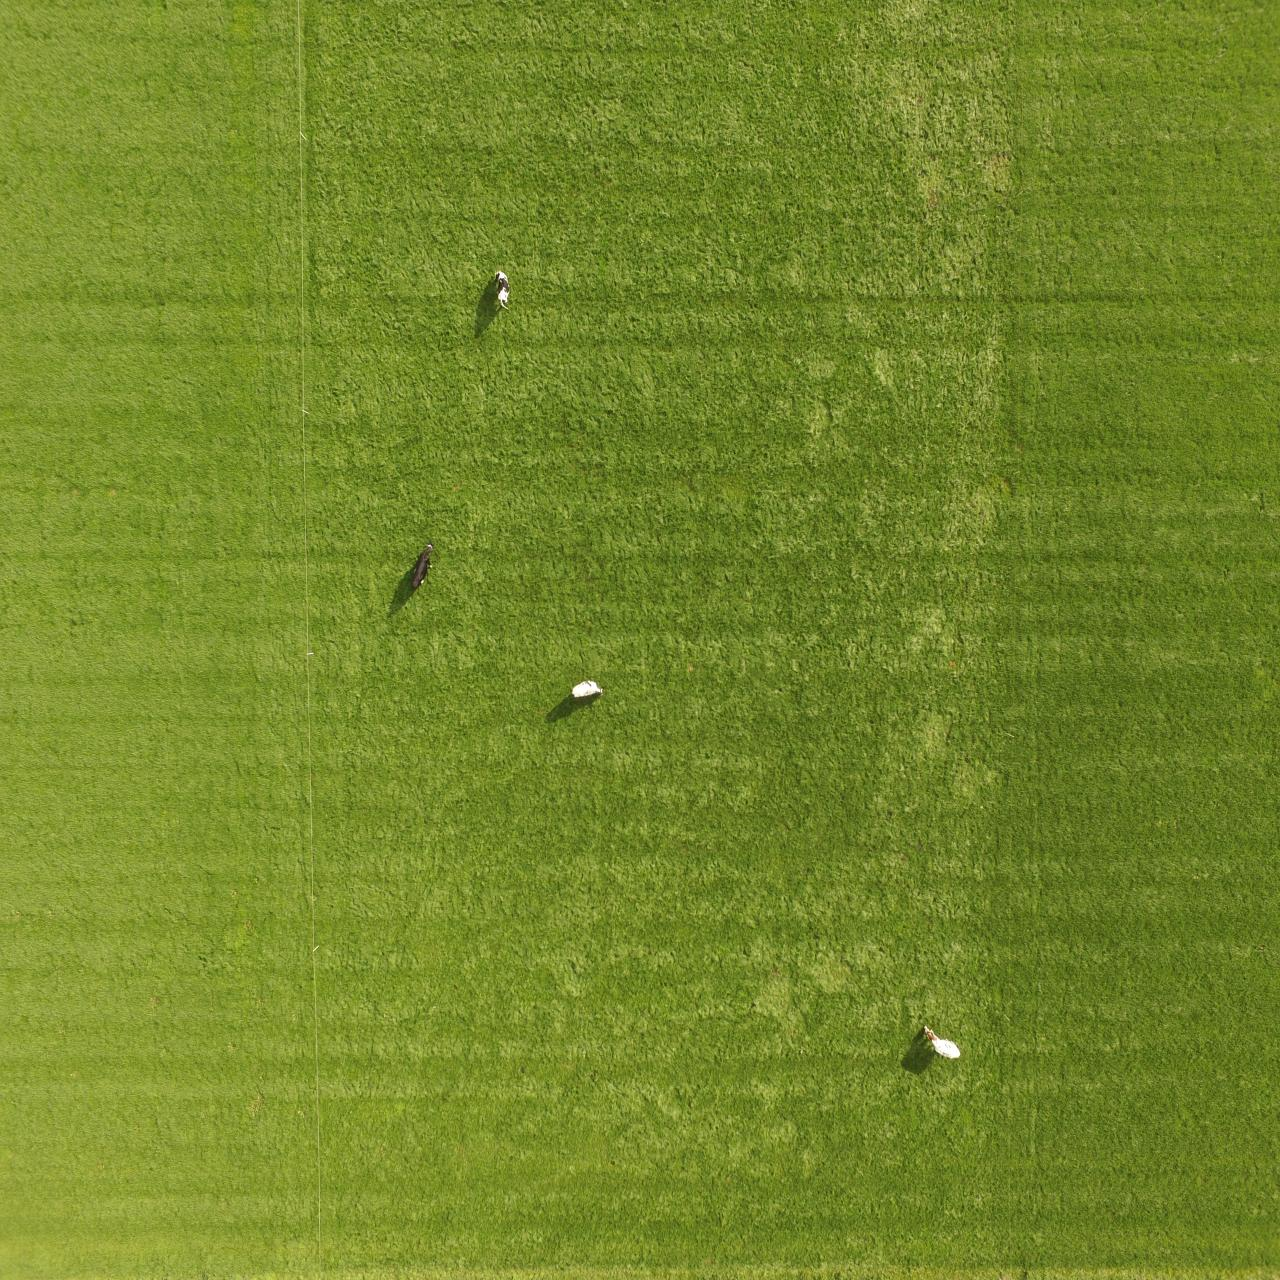cow: (919, 1021, 962, 1062), (409, 536, 437, 592), (491, 267, 511, 312), (570, 676, 604, 701)
